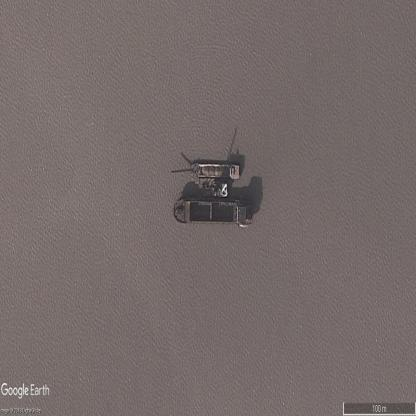ship: (172, 196, 252, 226)
